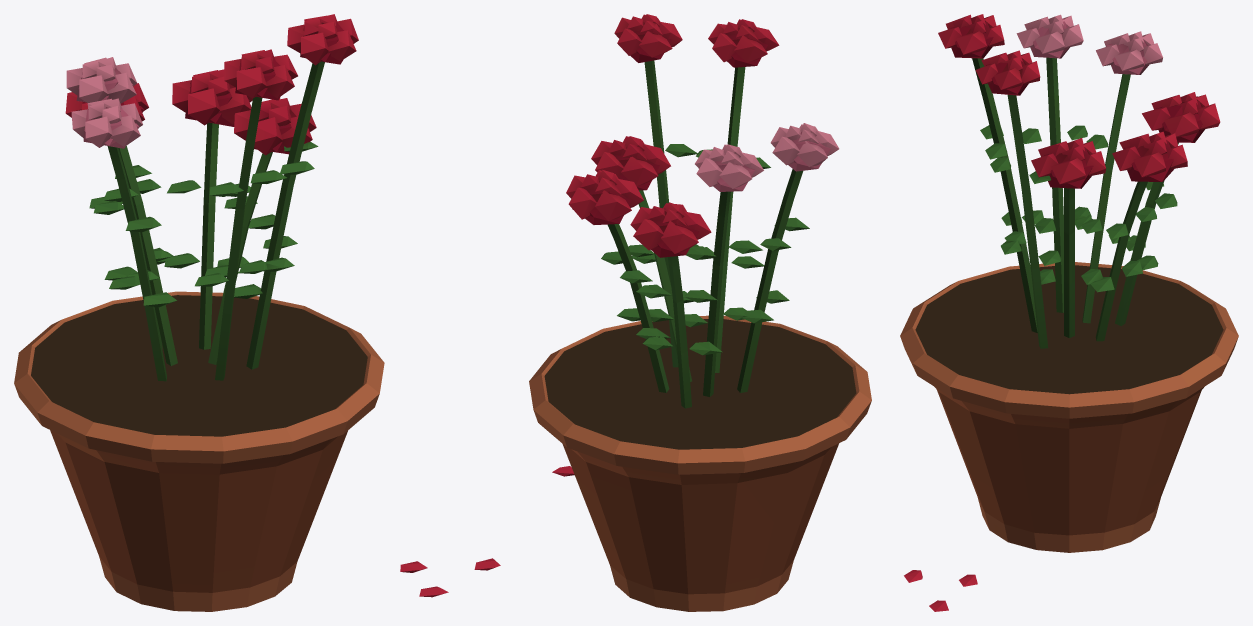
3 renders of one model, left to right at view 1: azimuth 30°, elevation 25°; view 2: azimuth 150°, elevation 25°; view 3: azimuth 270°, elevation 25°, orthographic. The views are drawn at different scales.
Visible parts, largest first — view 1: base; view 2: base; view 3: base.
Part boxes in pixels (x1,y1,x2,y2): base: (14,14,500,611); base: (529,14,871,611); base: (900,14,1238,611).
Size of the model in its own units: 0.3761 by 0.513 by 0.3128.
